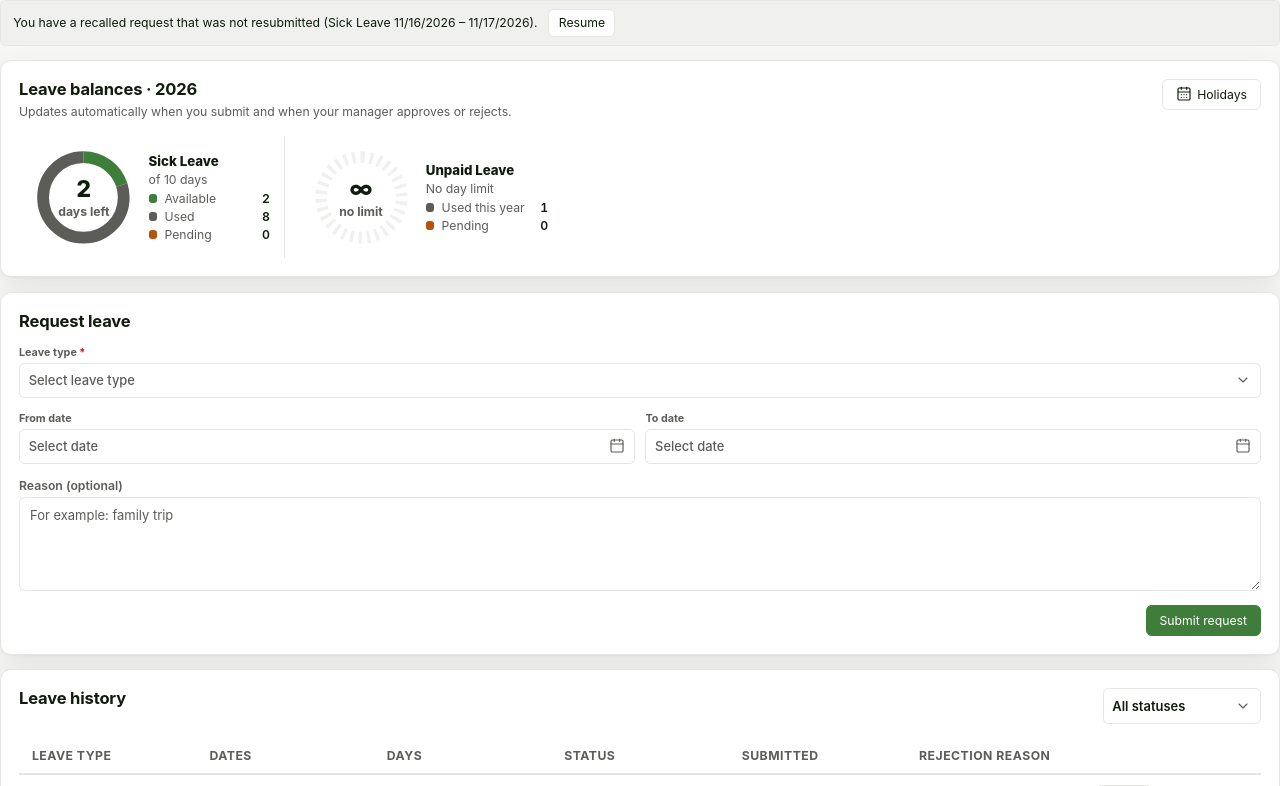
Scenario: LeavesWorkspace › offers to resume a recalled request that was never resubmitted
Check: the text "recalled request that was not resubmitted" is shown, box [13,15,328,30]
Click the button "Resume" at (582, 23), box [548,9,615,37]
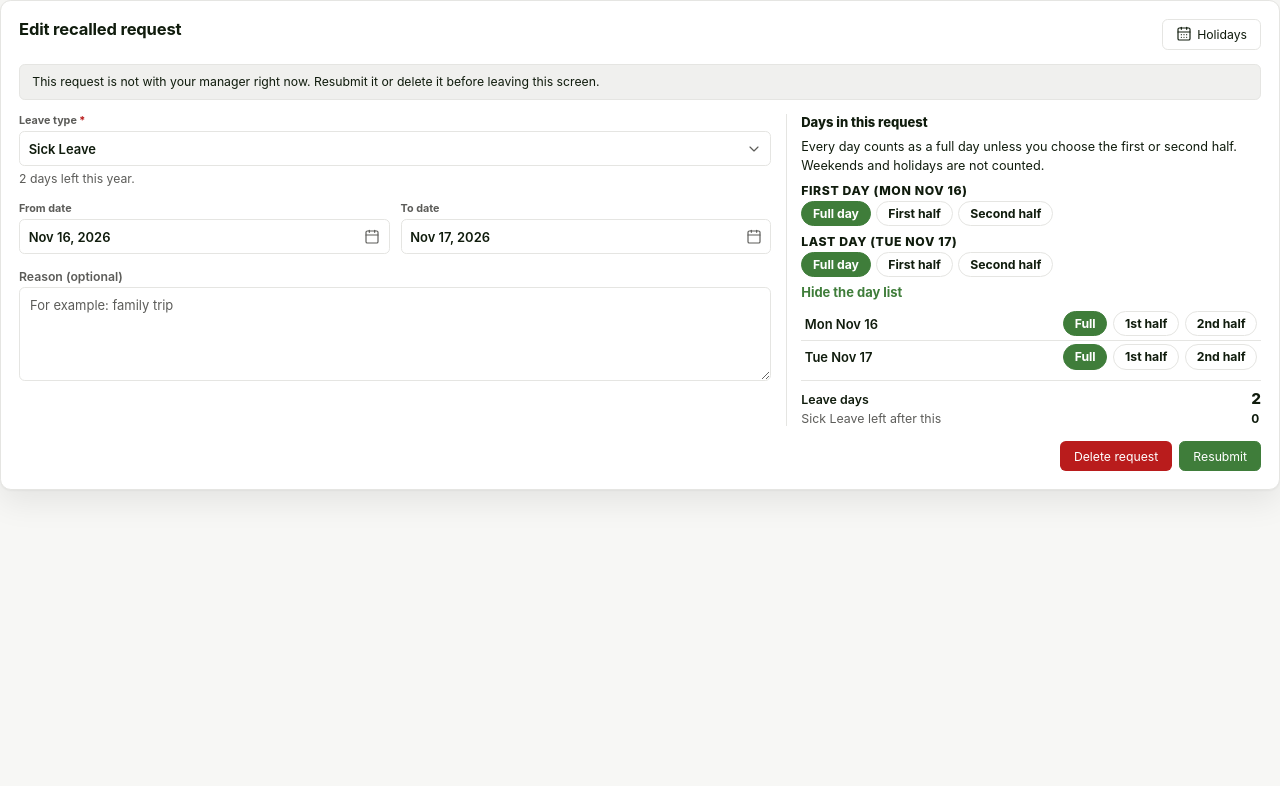
Check: the element "Edit recalled request" is shown
